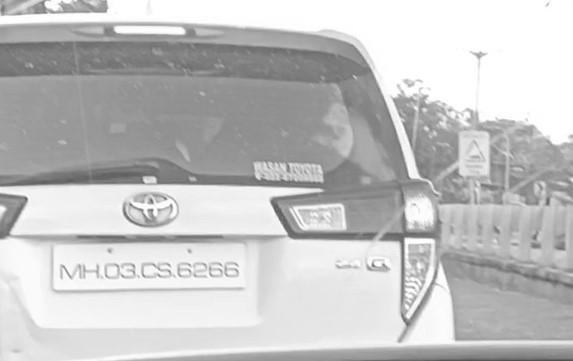number_plate: (50, 244, 247, 290)
